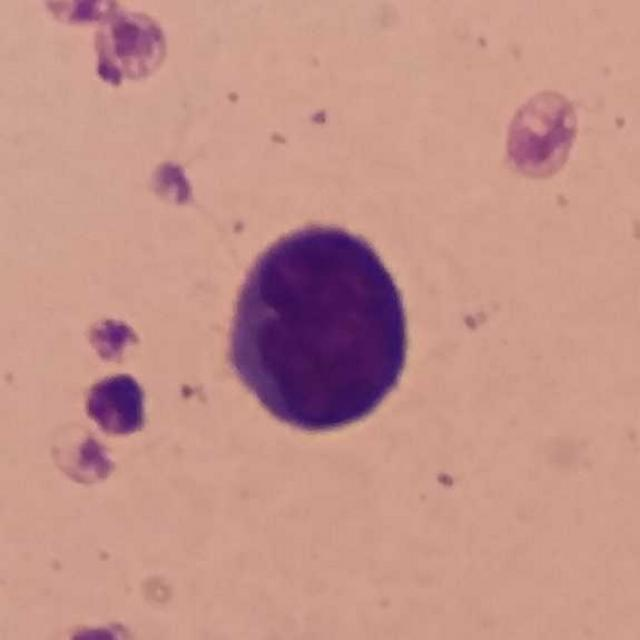Lymphocyte: (214, 206, 422, 447), (214, 208, 423, 446)
Platelets: (54, 1, 182, 99), (496, 84, 584, 184), (79, 370, 153, 440), (58, 431, 120, 486), (82, 312, 144, 366), (145, 157, 197, 209), (55, 617, 141, 640)
